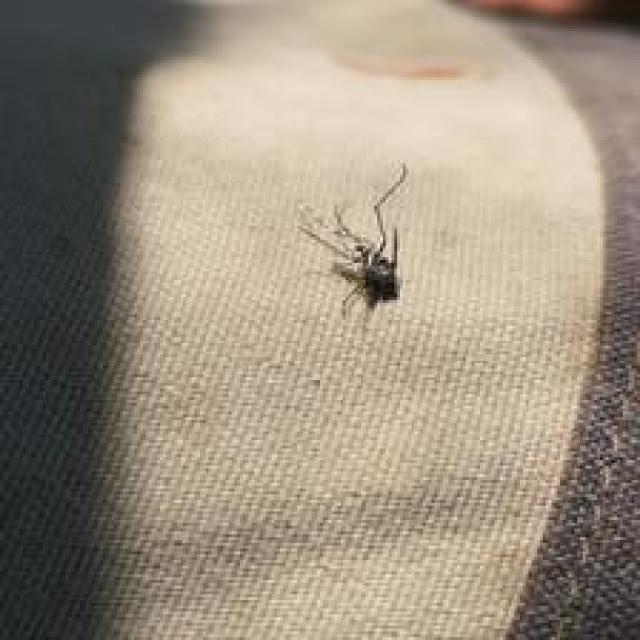Aedes albopictus: (294, 160, 412, 320)
